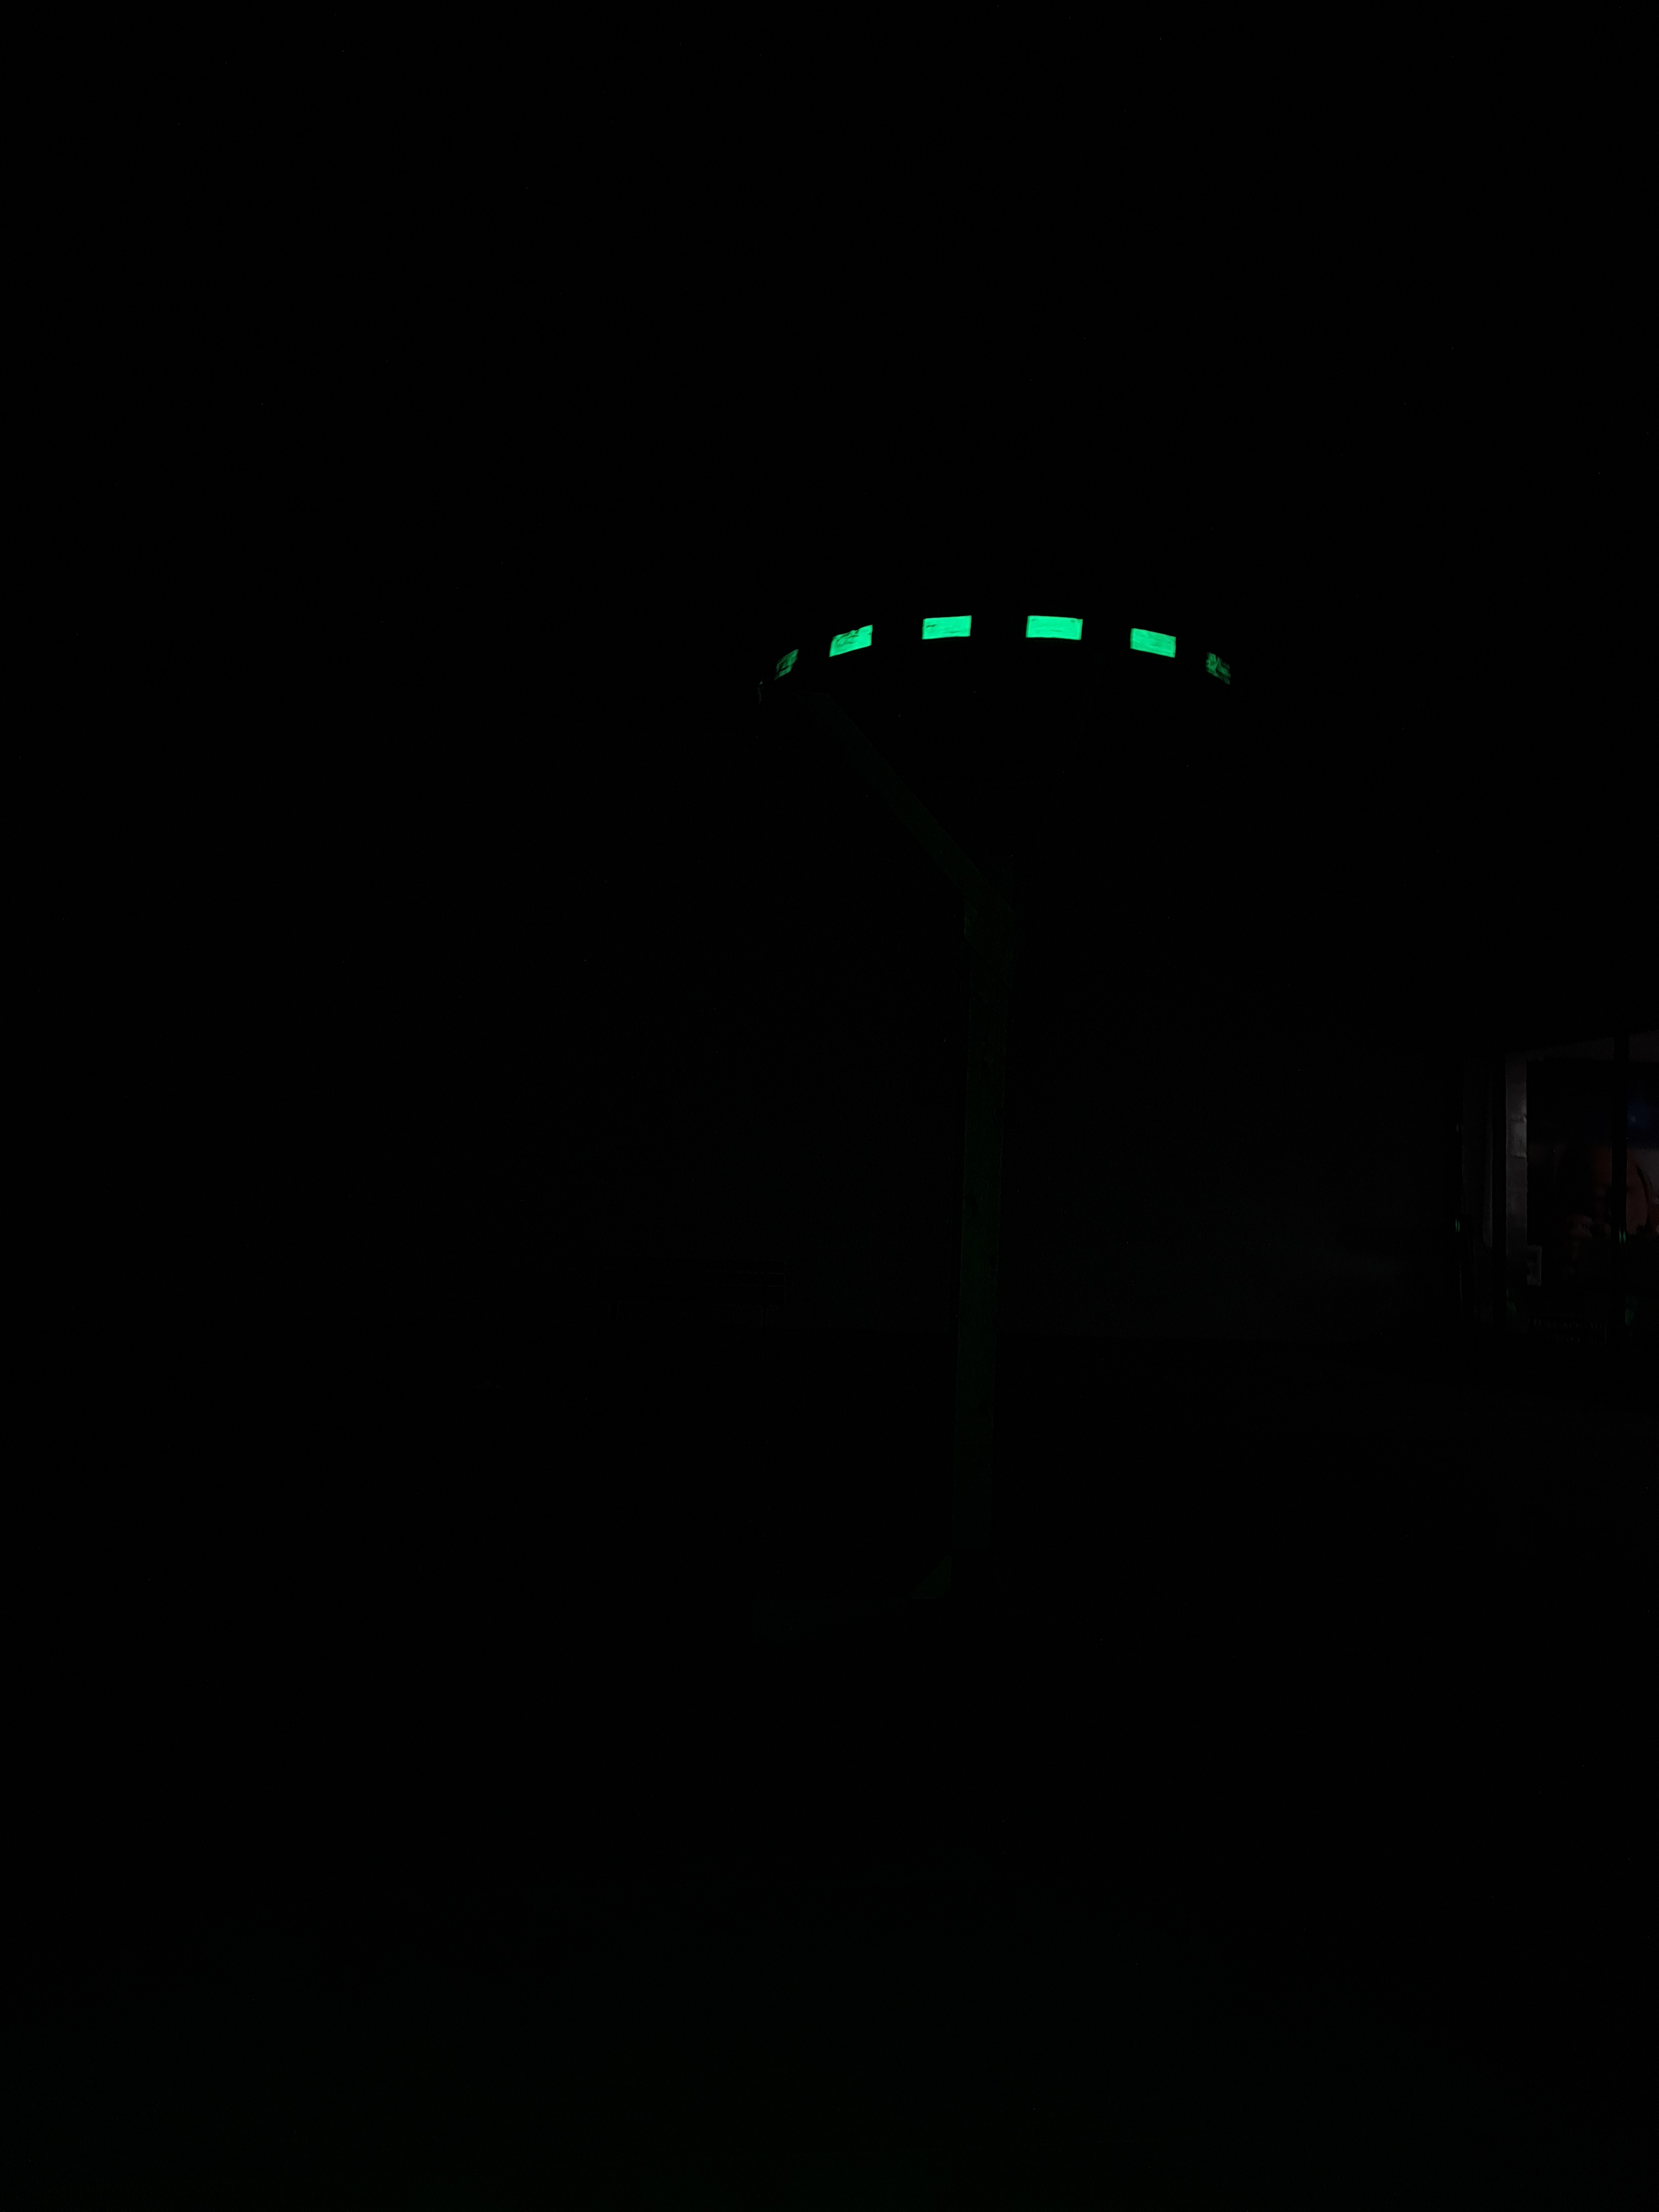hoop: (723, 589, 1249, 707)
